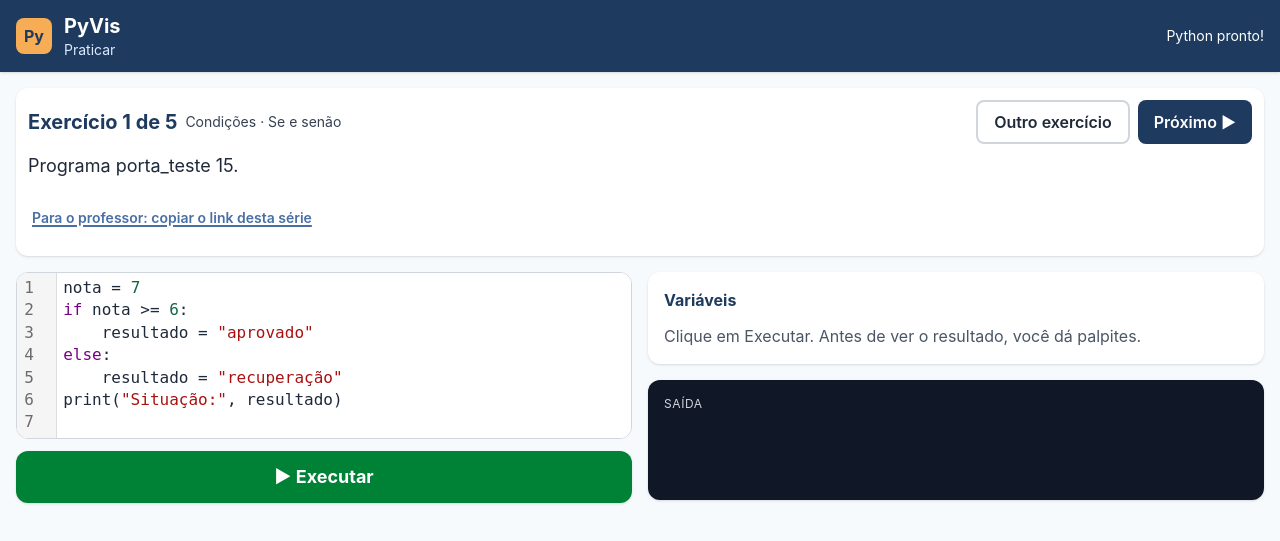
Scenario: área Praticar › 'Outro exercício' troca o atual por um que ainda não apareceu; quando acaba, avisa e fica
The width and height of the screenshot is (1280, 541).
Click the button "Outro exercício" at (1053, 122), box [976,100,1130,144]
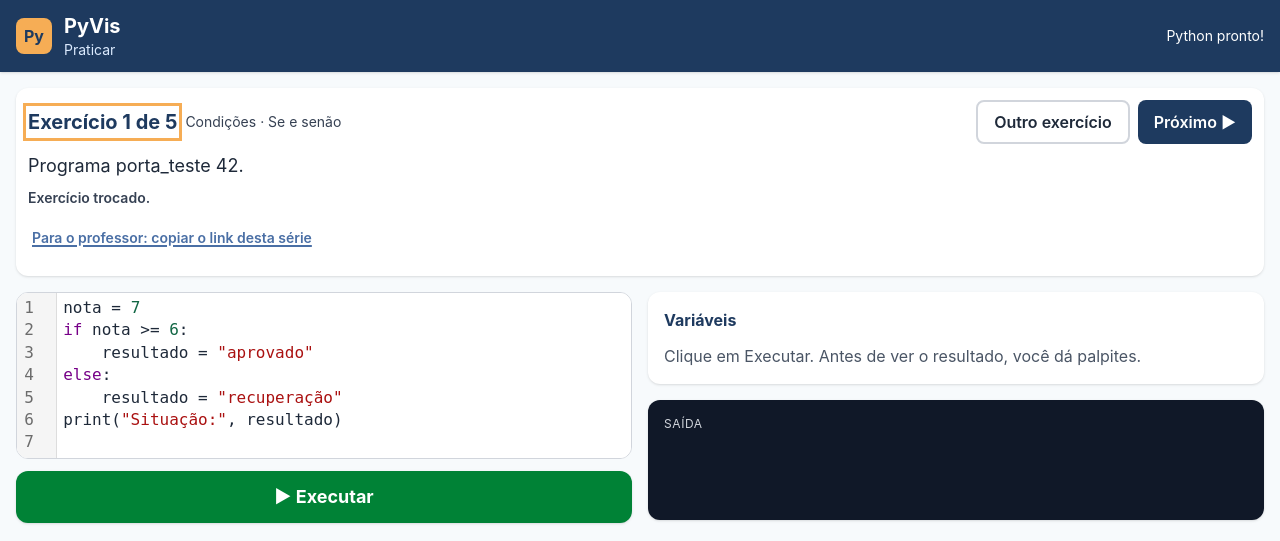
// O banco falso tem 6 sementes: a próxima troca não acha mais nenhuma.
Click the button "Outro exercício" at (1053, 122), box [976,100,1130,144]
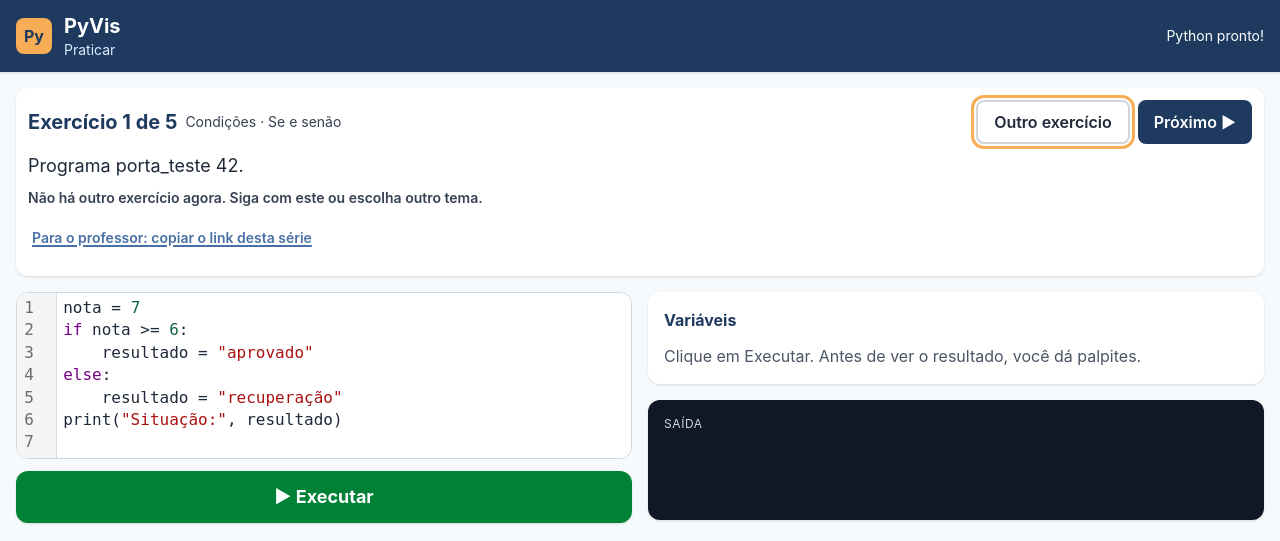
expect the text "Não há outro exercício agora. Siga com este ou escolha outro tema." is shown: met, box [28,189,483,206]
